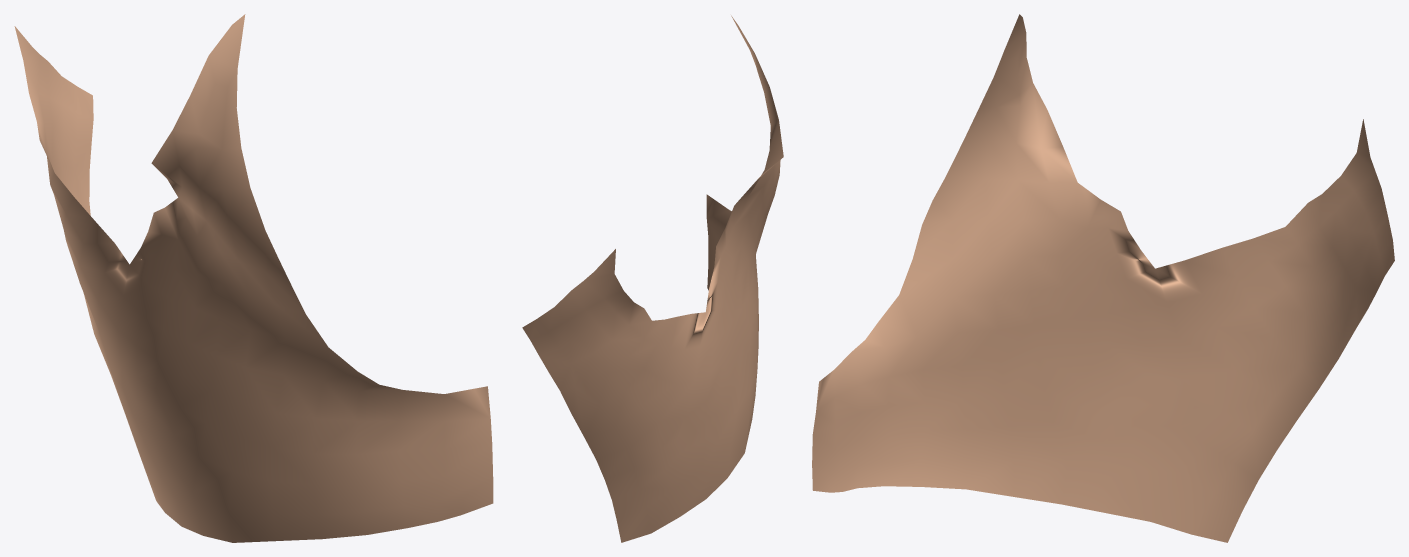
Rendered from lateral-region-of-thorax-r.glb.
3 renders of one model, left to right at view 1: azimuth 30°, elevation 25°; view 2: azimuth 150°, elevation 25°; view 3: azimuth 270°, elevation 25°, orthographic. The views are drawn at different scales.
Visible parts, largest first — view 1: Lateral region of thorax.r; view 2: Lateral region of thorax.r; view 3: Lateral region of thorax.r.
Part boxes in pixels (x1=…): Lateral region of thorax.r: x1=14, y1=14, x2=493, y2=542; Lateral region of thorax.r: x1=522, y1=15, x2=783, y2=542; Lateral region of thorax.r: x1=812, y1=14, x2=1394, y2=542.
Size of the model in its own units: 0.0995 by 0.2438 by 0.2475.
